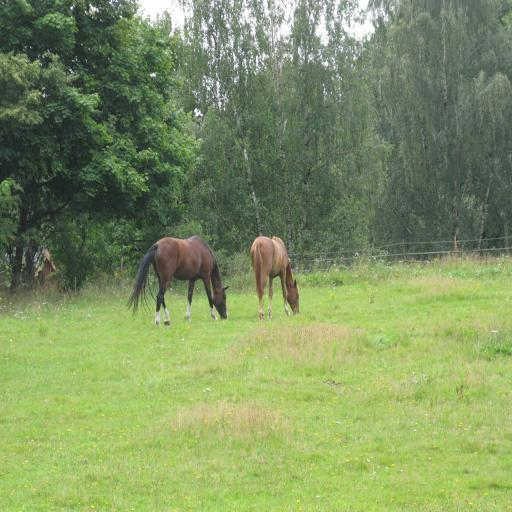Horse: (125, 236, 230, 329), (250, 236, 300, 322)
